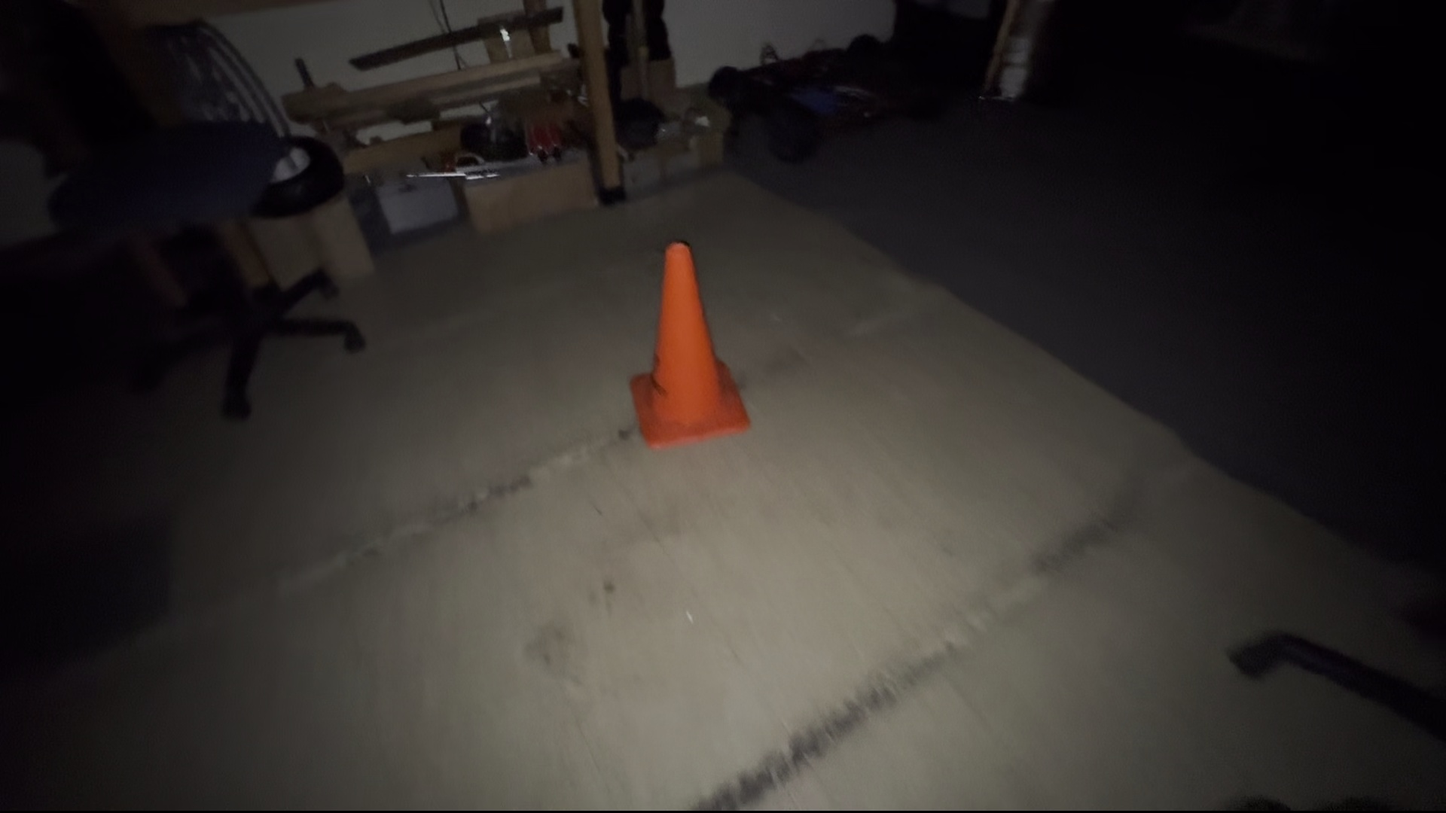traffic_cone: (628, 240, 752, 450)
